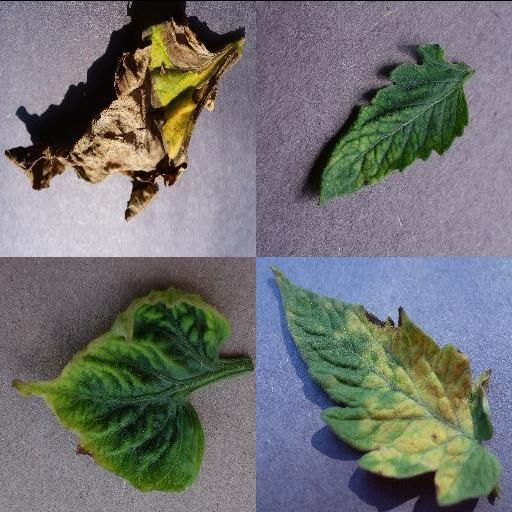Late Blight: (0, 16, 247, 220)
Leaf Mold: (268, 266, 502, 503)
Mosaic Virus: (317, 40, 471, 206)
Yellow Leaf Curl Virus: (11, 282, 231, 494)
